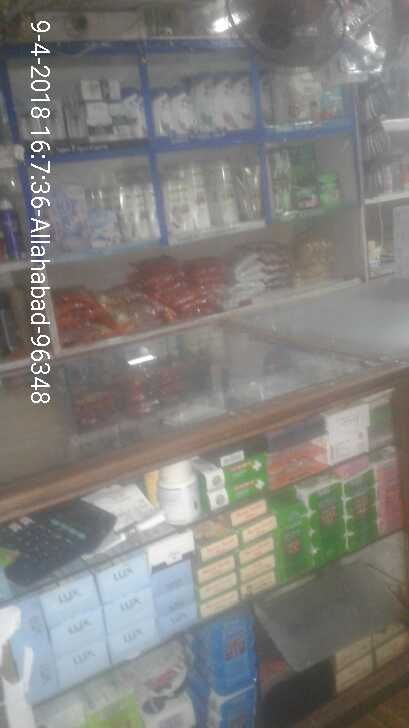venus: (56, 180, 82, 251), (90, 211, 115, 246)
